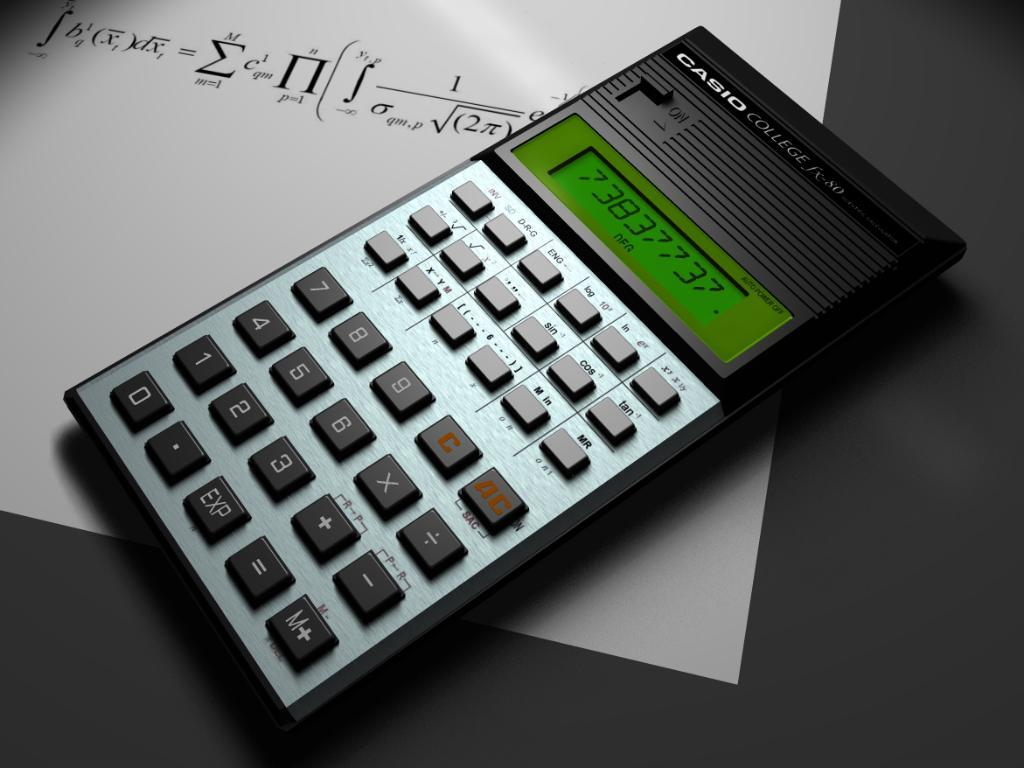Laptop: (61, 23, 967, 731)
